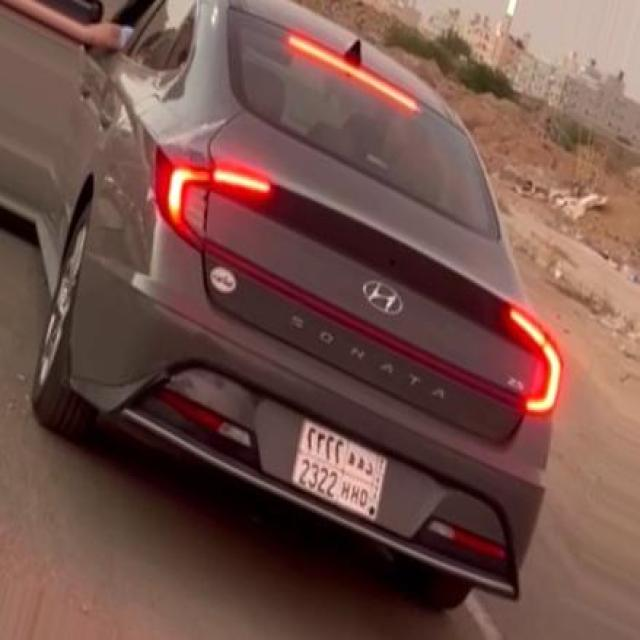Car-plate: (285, 404, 397, 528)
